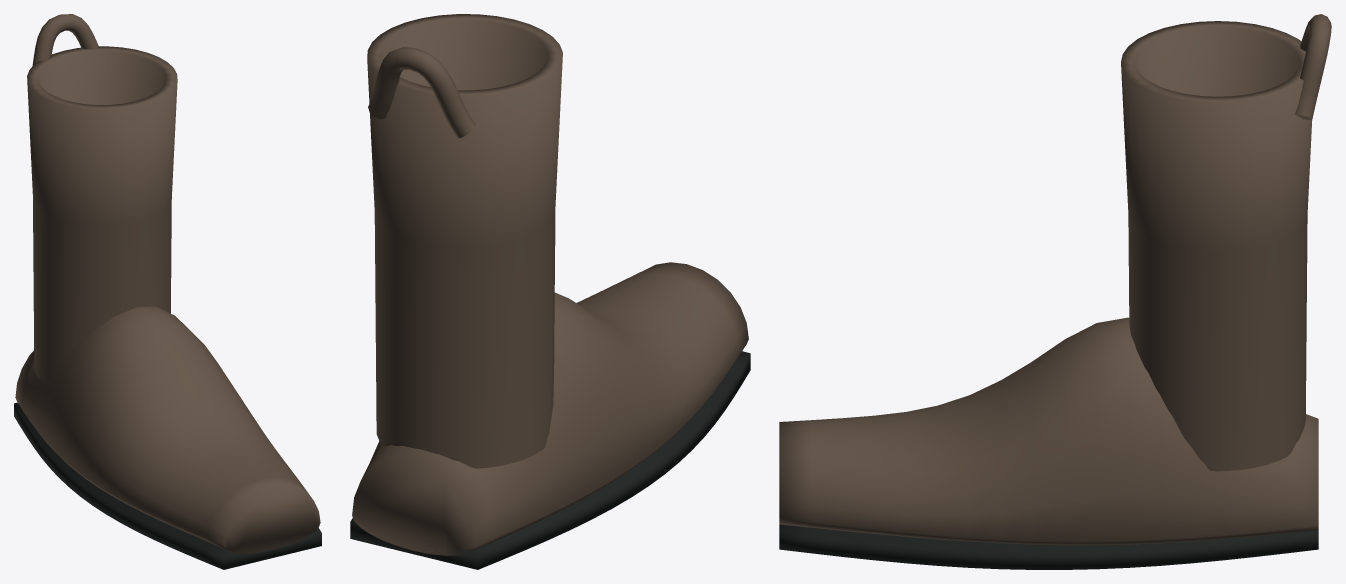
The model's file is sku_v23_boot.glb.
The picture shows the model from 3 angles, left to right: view 1: azimuth 30°, elevation 25°; view 2: azimuth 150°, elevation 25°; view 3: azimuth 270°, elevation 25°; orthographic projection. The views are drawn at different scales.
Parts seen in each view (by area): view 1: sku_v23_boot_V23_smooth_leather, sku_v23_boot_Grip_rubber; view 2: sku_v23_boot_V23_smooth_leather, sku_v23_boot_Grip_rubber; view 3: sku_v23_boot_V23_smooth_leather, sku_v23_boot_Grip_rubber.
Boxes of the visible parts, left/top/right/bottom form: sku_v23_boot_V23_smooth_leather: left=15, top=14, right=320, bottom=553; sku_v23_boot_Grip_rubber: left=14, top=402, right=321, bottom=569; sku_v23_boot_V23_smooth_leather: left=352, top=14, right=748, bottom=555; sku_v23_boot_Grip_rubber: left=350, top=351, right=750, bottom=569; sku_v23_boot_V23_smooth_leather: left=779, top=14, right=1331, bottom=545; sku_v23_boot_Grip_rubber: left=779, top=524, right=1318, bottom=569.
Size of the model in its own units: 0.1298 by 0.2959 by 0.2959.
